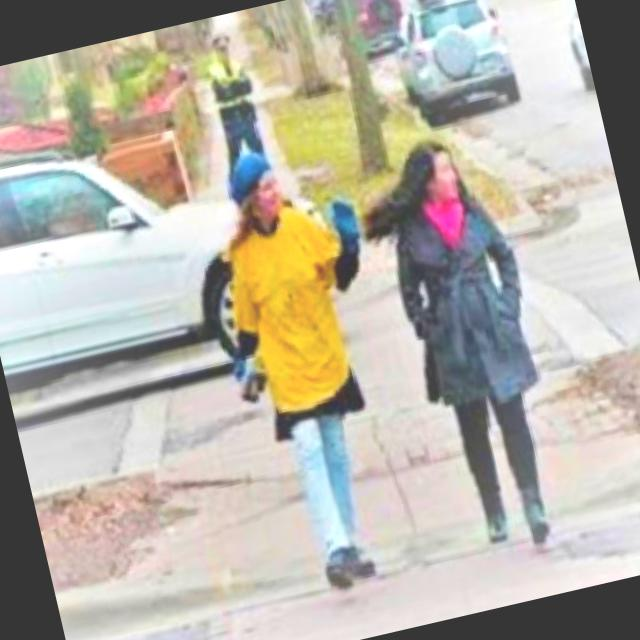Person: (196, 119, 442, 603), (360, 120, 578, 566), (190, 23, 280, 174)
